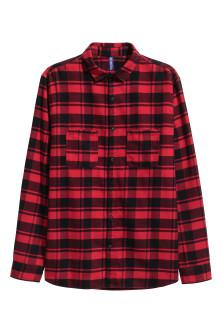teeshirt: (9, 39, 218, 294)
